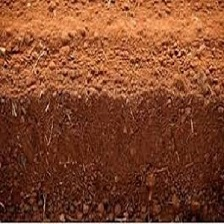clay_soil: (3, 22, 215, 194)
